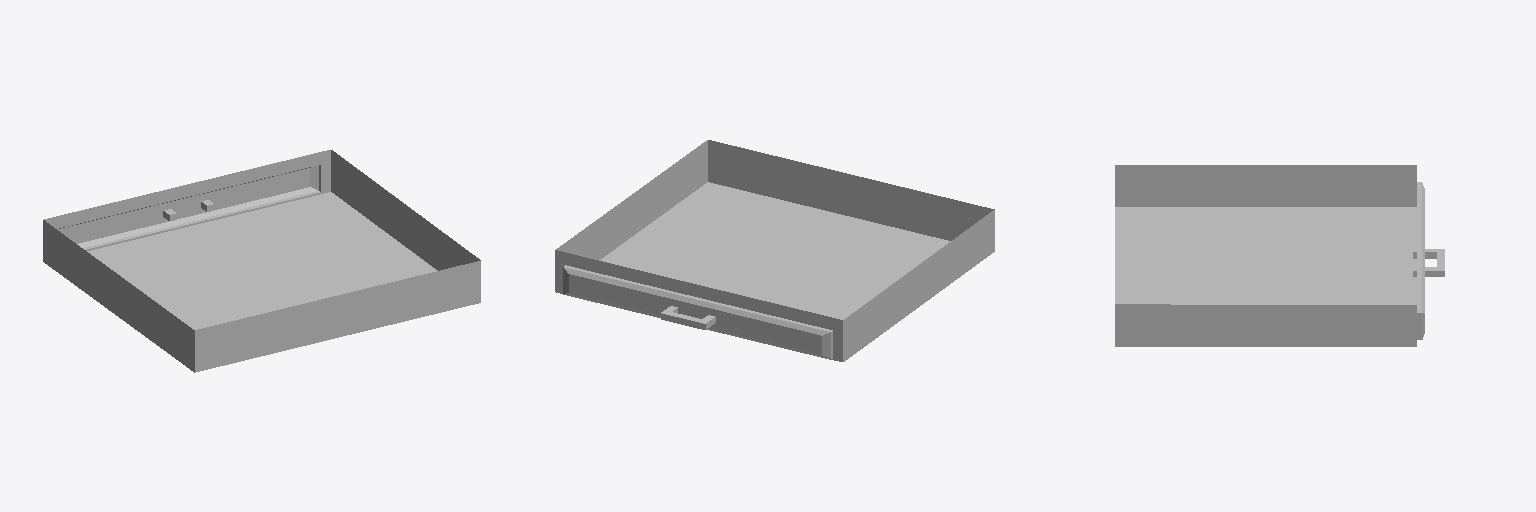
The model's file is desk_middle_1.obj.
3 renders of one model, left to right at view 1: azimuth 30°, elevation 25°; view 2: azimuth 150°, elevation 25°; view 3: azimuth 270°, elevation 25°, orthographic.
Size of the model in its own units: 6.7 by 0.9428 by 6.65.